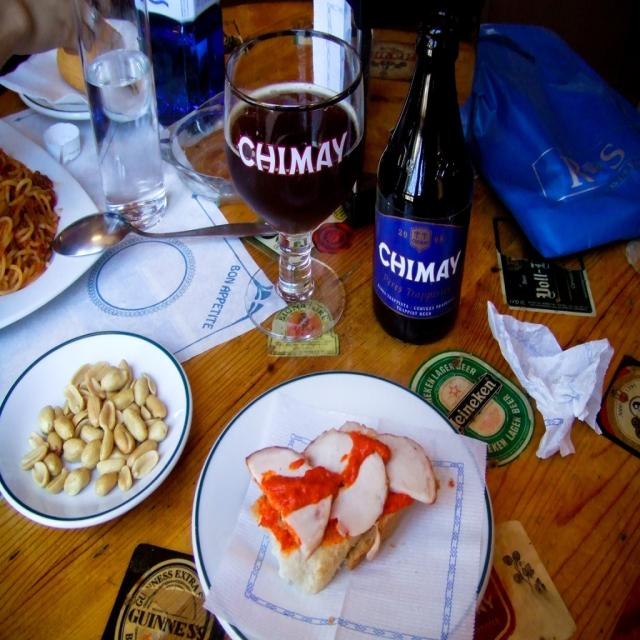chimay: (374, 210, 468, 320), (238, 133, 353, 180)
